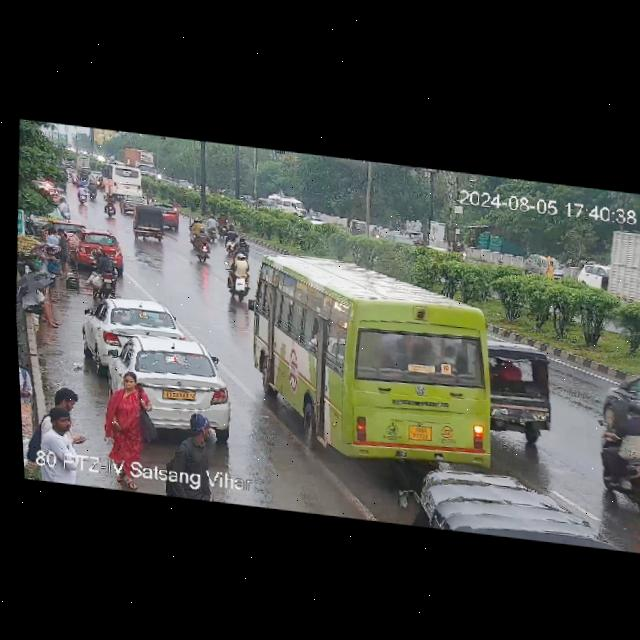bus: (233, 246, 506, 479), (100, 163, 146, 201)
car: (393, 456, 592, 546), (107, 330, 239, 435), (486, 337, 573, 441), (83, 292, 181, 361), (589, 364, 640, 445), (131, 201, 169, 241), (526, 251, 561, 281), (574, 260, 607, 288), (158, 202, 180, 230)
motorcycle: (588, 390, 640, 503), (84, 245, 120, 295), (225, 249, 251, 300), (199, 211, 239, 243), (222, 231, 253, 262), (187, 230, 215, 263), (99, 188, 121, 220), (74, 179, 94, 206), (186, 212, 203, 235), (85, 180, 99, 200), (144, 184, 154, 204), (169, 198, 182, 213)
person: (19, 357, 91, 455), (99, 360, 144, 471), (175, 404, 222, 476), (21, 281, 57, 326), (36, 239, 62, 295), (44, 226, 71, 254), (546, 258, 556, 276)
truck: (587, 222, 640, 313)
